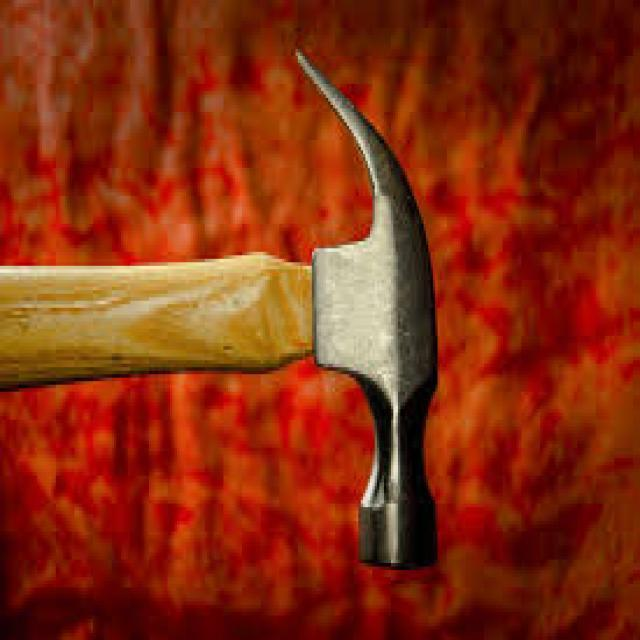hammer: (0, 34, 447, 576)
